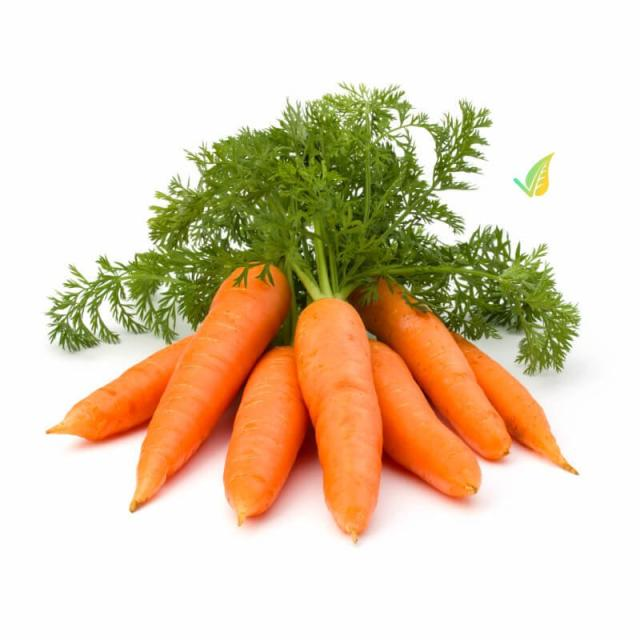Carrot: (299, 298, 394, 547)
